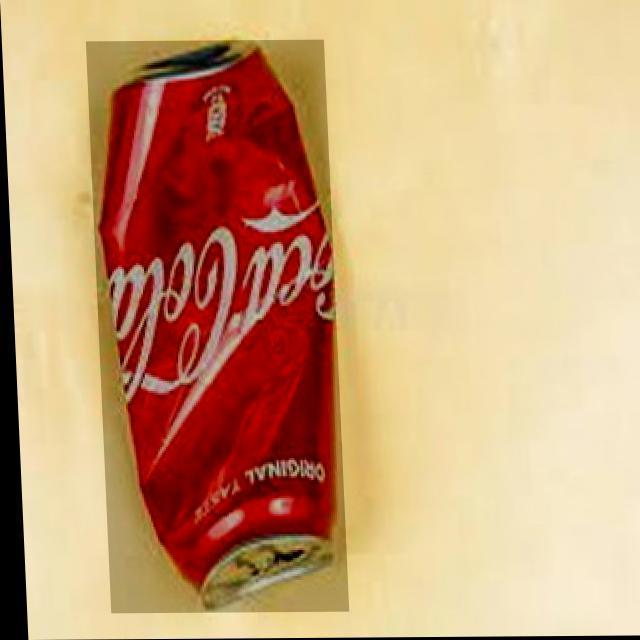trash: (85, 40, 343, 614)
